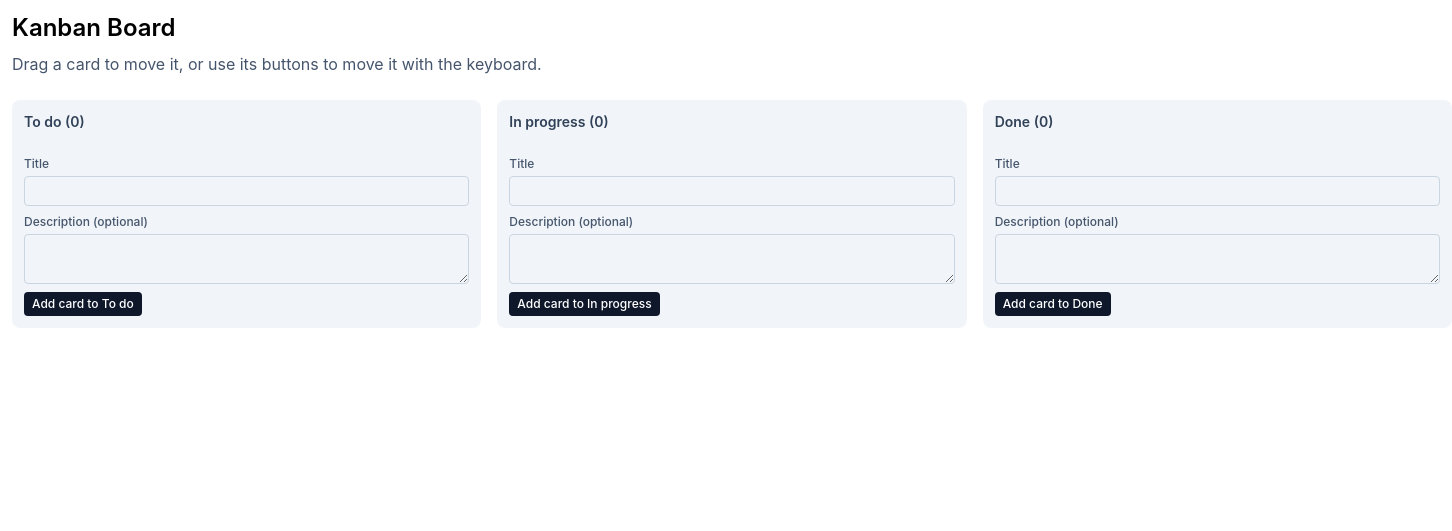
it: edits a card's title and description
The width and height of the screenshot is (1452, 531).
Type "Initial title" into the 1st field labelled "Title".
click(247, 191); type("Initial title")  # box x1=24 y1=176 x2=469 y2=206
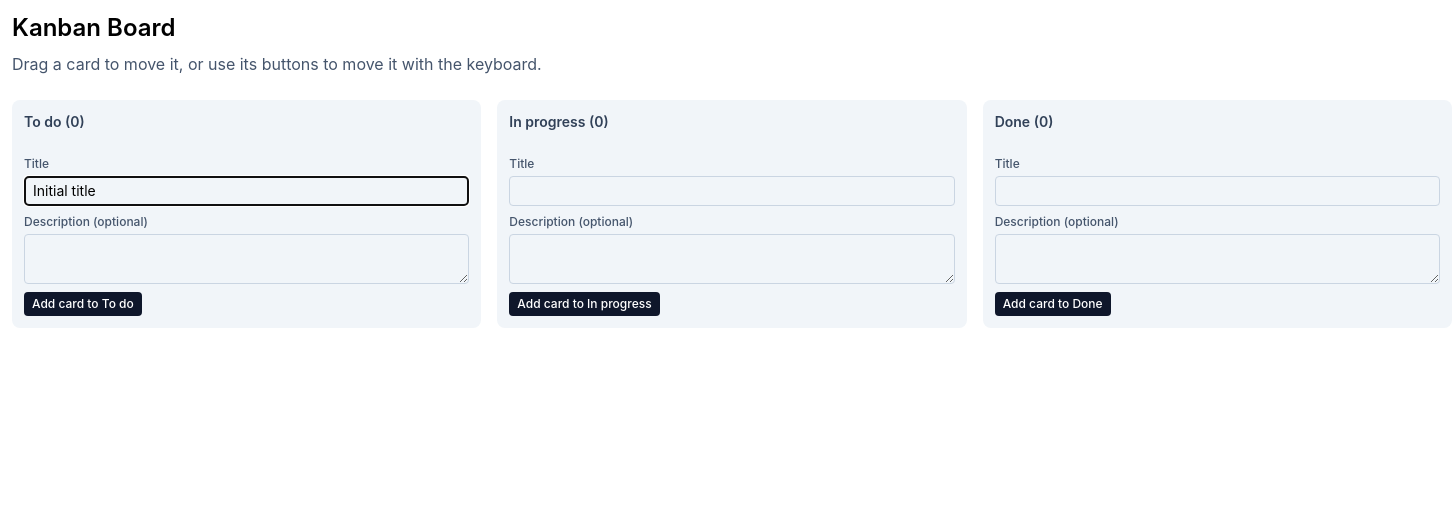
Click the button "Add card to To do".
click(83, 304)  # box x1=24 y1=292 x2=142 y2=316
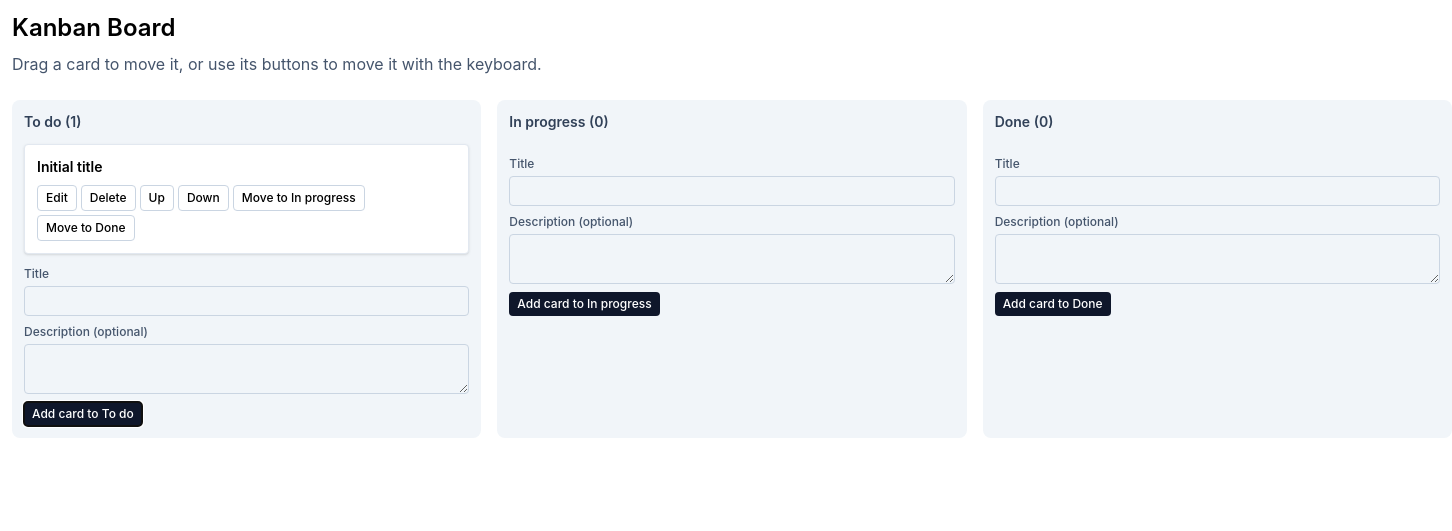
Expected: the list item "Initial title" is shown, x1=24 y1=144 x2=469 y2=254
Click the button named "Edit \"Initial title\"".
click(57, 198)  # box x1=37 y1=185 x2=77 y2=211
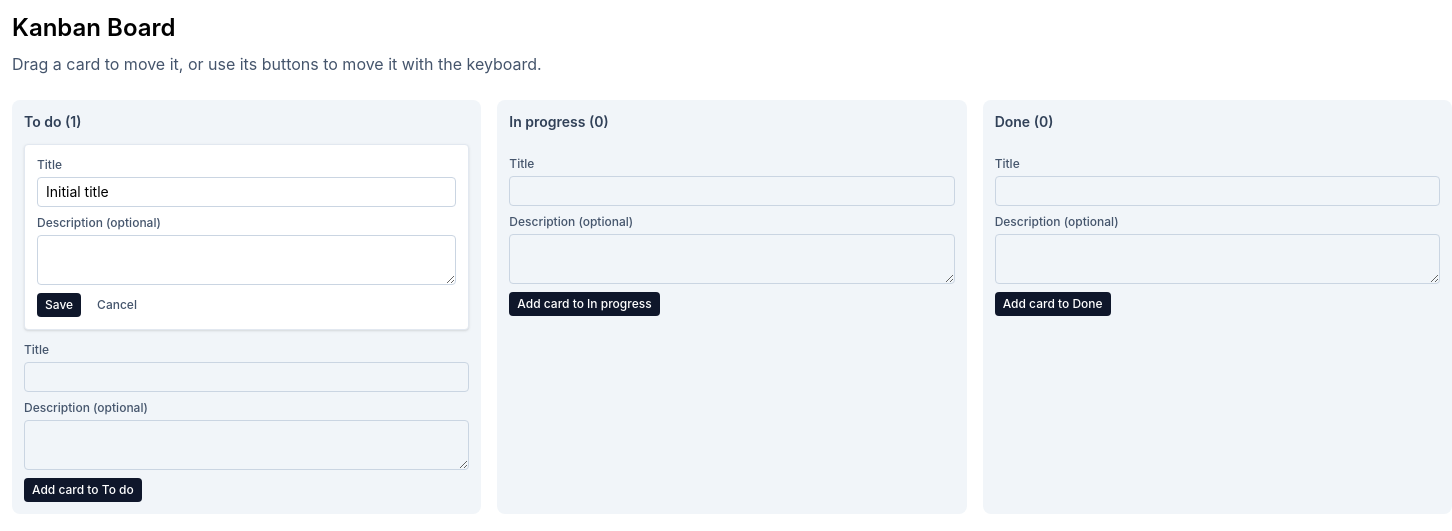
Replace the text in the 1st field labelled "Title" with "Updated title" at (247, 192), box x1=37 y1=177 x2=456 y2=207
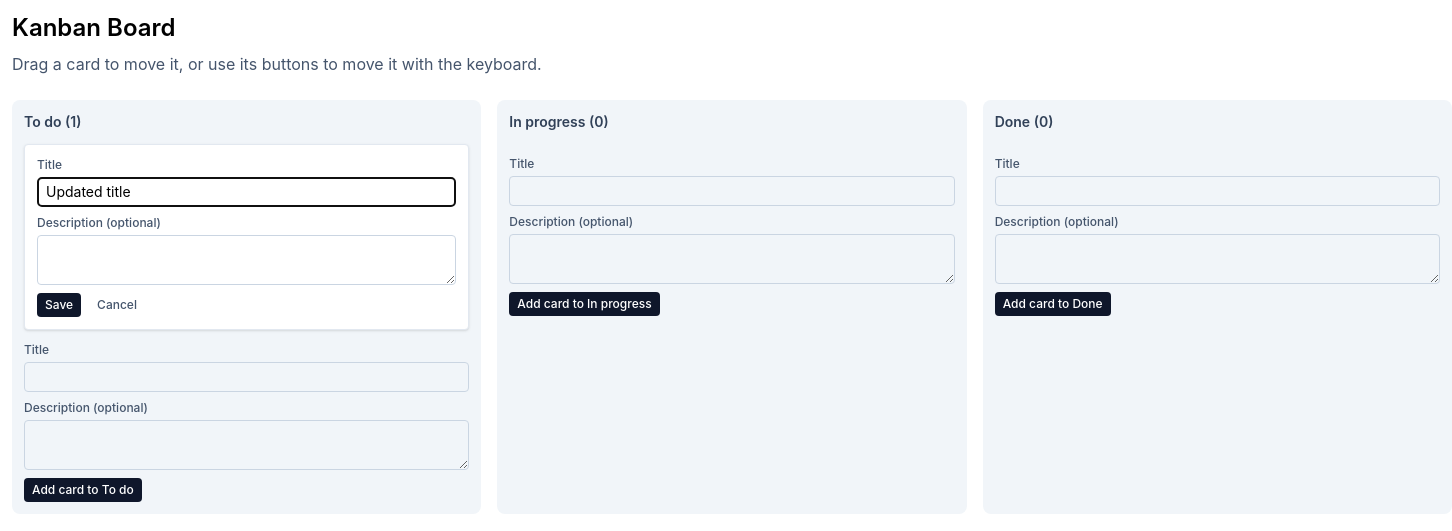
Type "Some details" into the 1st text box labelled "Description (optional)".
click(247, 260); type("Some details")  # box x1=37 y1=235 x2=456 y2=285
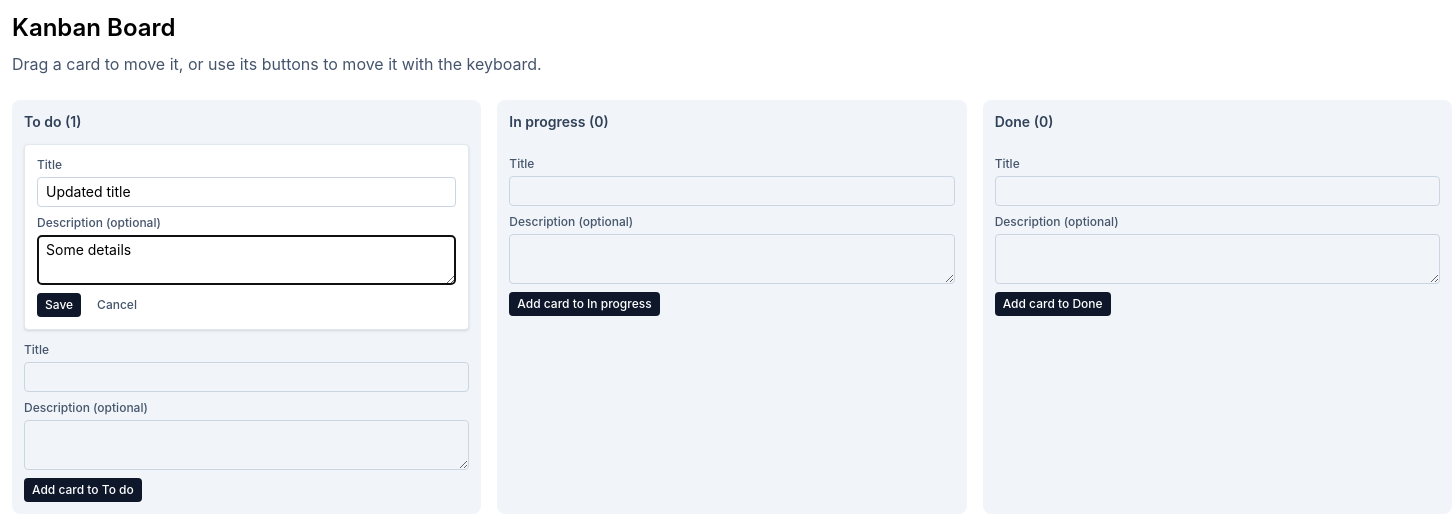
Click the button "Save".
click(59, 305)  # box x1=37 y1=293 x2=81 y2=317
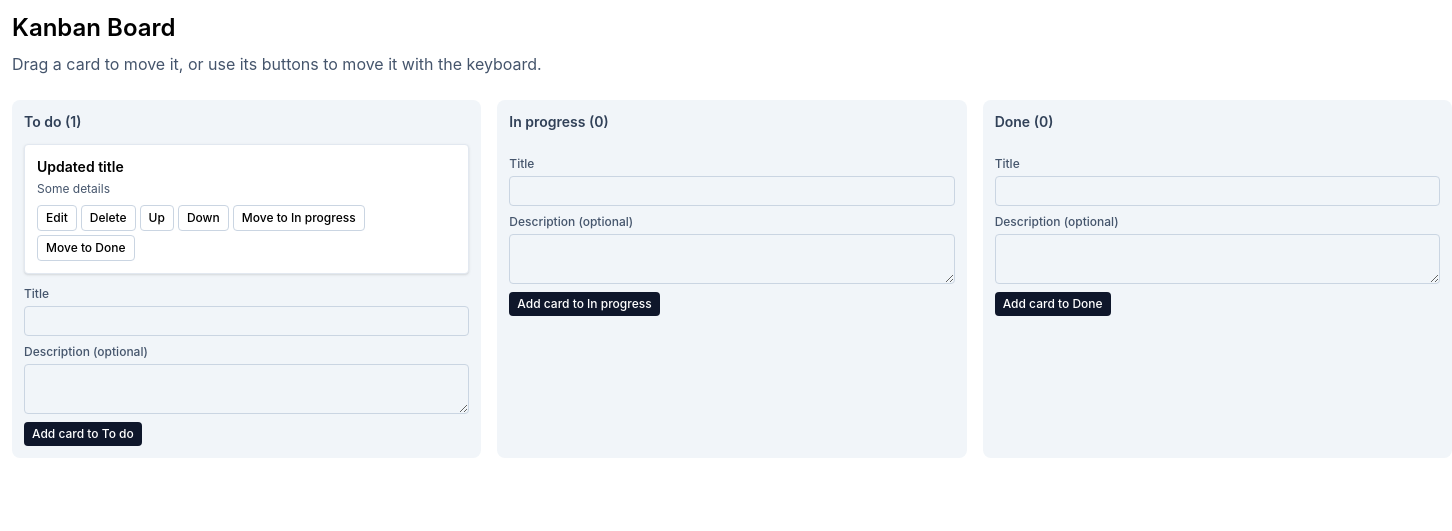
Expected: the heading "Updated title" is shown, x1=37 y1=158 x2=124 y2=175
Expected: the text "Some details" is shown, x1=37 y1=181 x2=110 y2=196
